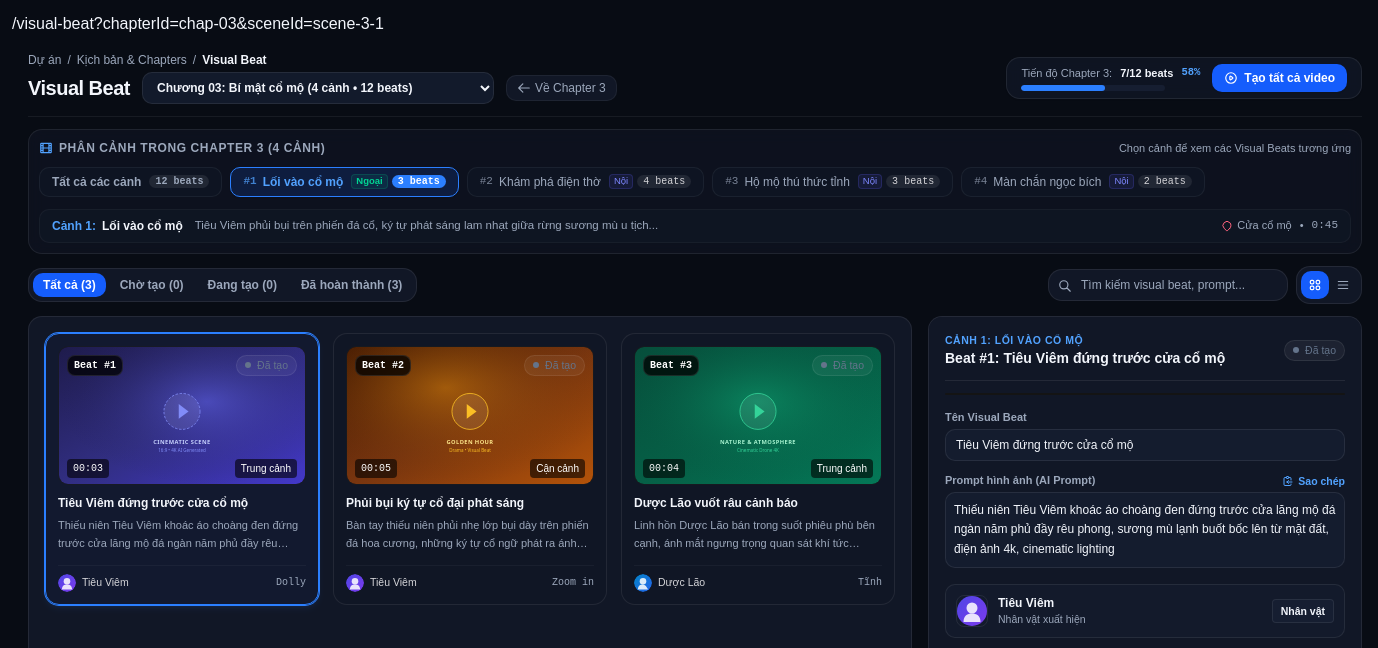
Test: VisualBeatPage - Chapter > Scene > Visual Beat Hierarchy › restores all beats when clicking 'Tất cả các cảnh' tab
Check: the text "Bước vào điện thờ cổ u ám" is not shown
Note: Click "Tất cả các cảnh"
Step 1. Click the button "Tất cả các cảnh 12 beats" → (131, 182), box left=39, top=166, right=222, bottom=196
(page scrolled)
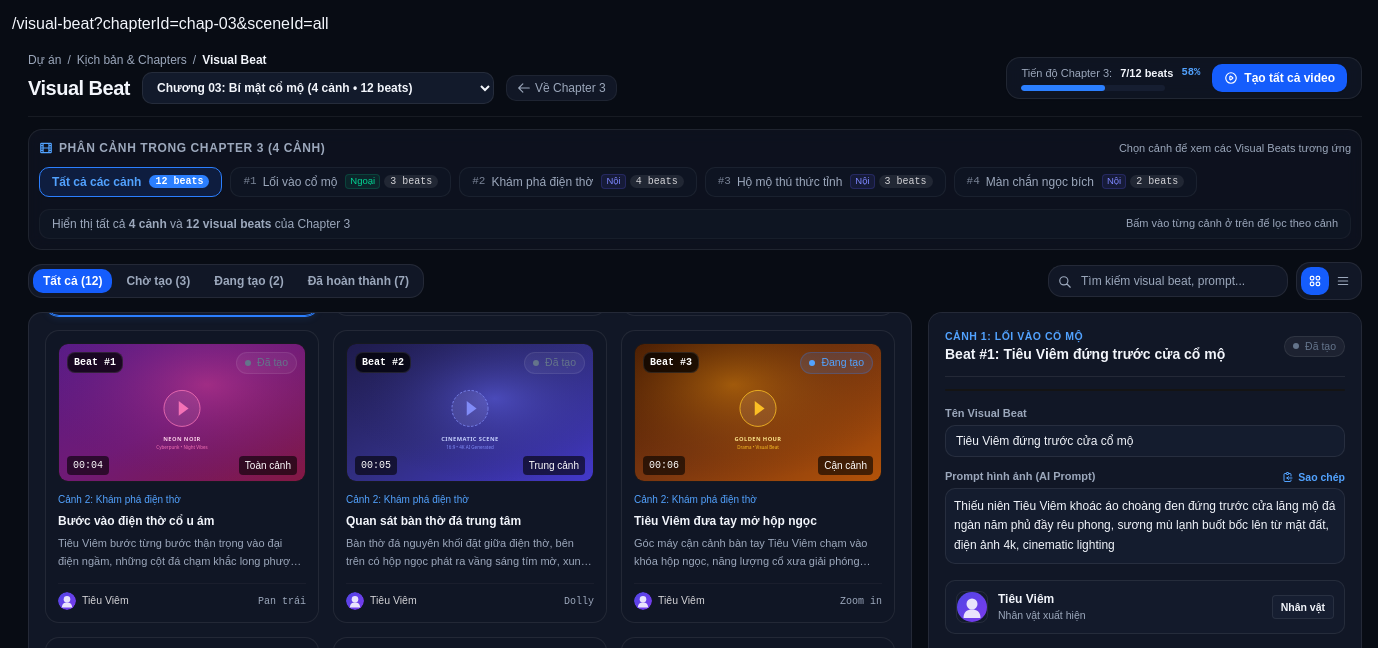
Check: the text with test id "location-display" shows "sceneId=all", box left=12, top=15, right=329, bottom=32
Check: the heading "Bước vào điện thờ cổ u ám" is shown, box left=58, top=514, right=214, bottom=528
